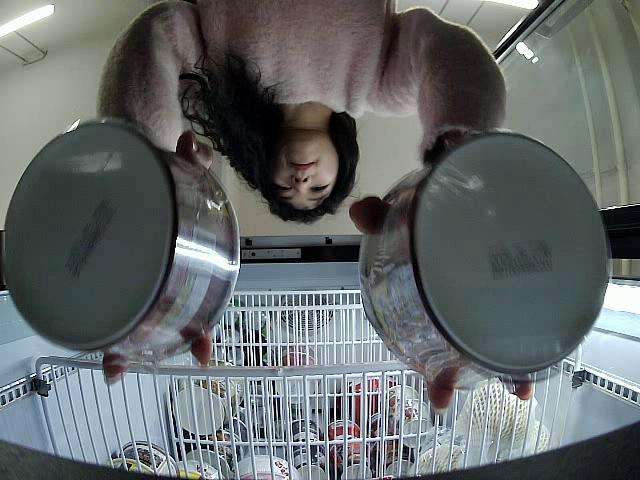00_hand: (347, 195, 535, 409), (101, 129, 219, 388)
05_nuguri_L: (360, 131, 612, 391), (3, 121, 243, 367)
